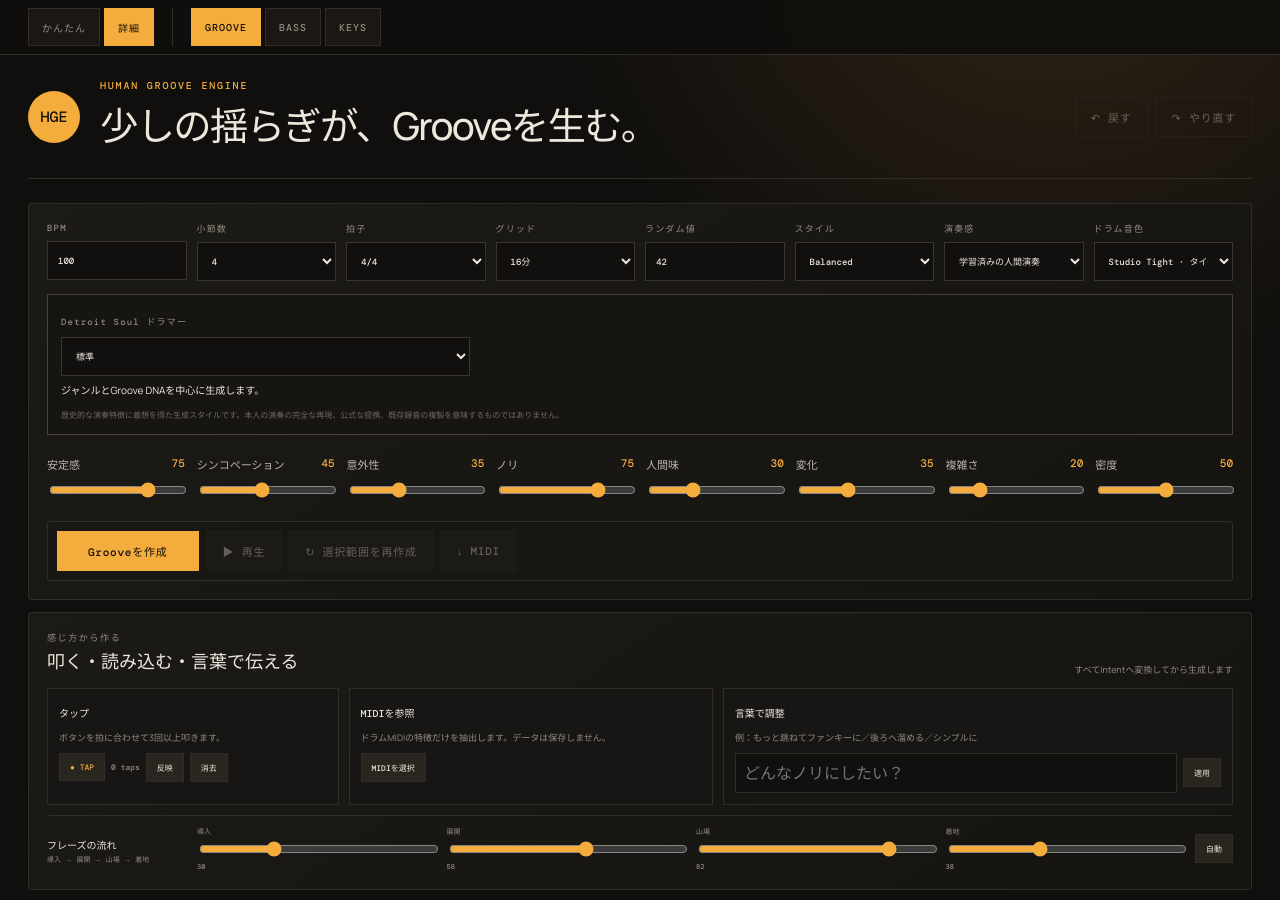
Test: switches between Groove, Bass, and Keys engines
Check: the heading "少しの揺らぎが、Grooveを生む。" is shown, box [100,94,658,152]
Step 1. Click the button "BASS" → coordinates (293, 27), box [265,8,321,46]
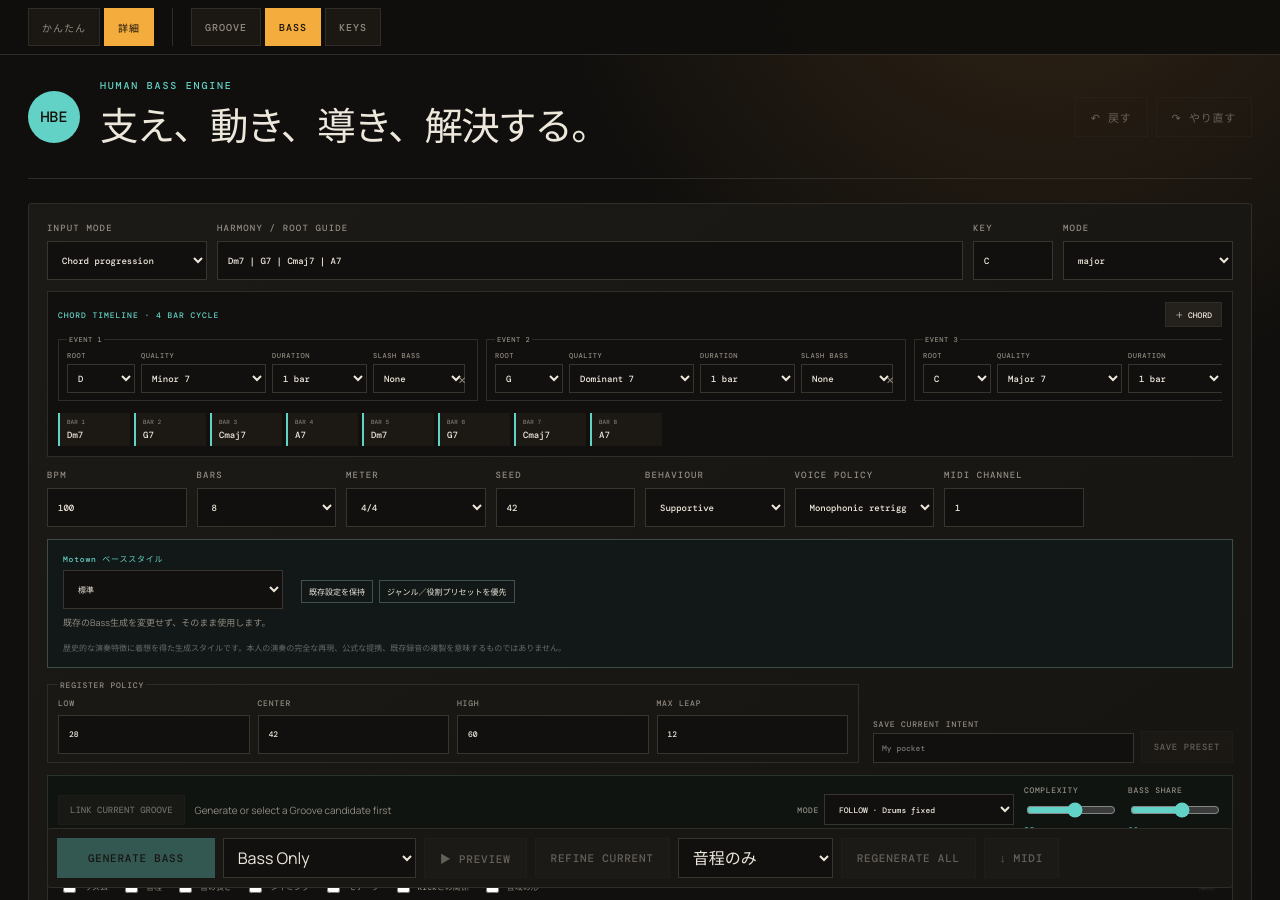
Check: the heading "支え、動き、導き、解決する。" is shown, box [100,94,608,152]
Step 2. Click the button "KEYS" → coordinates (353, 27), box [325,8,381,46]
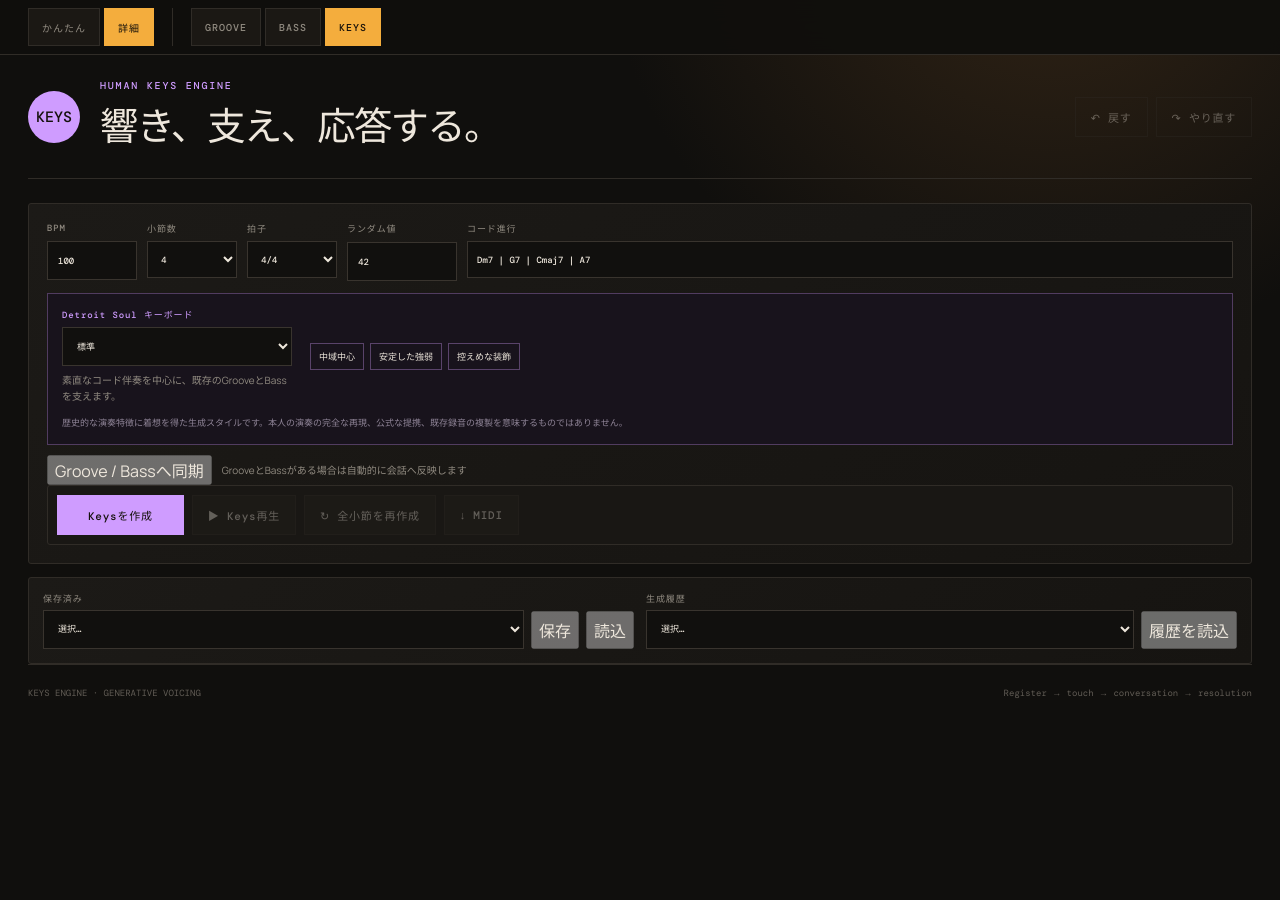
Check: the heading "響き、支え、応答する。" is shown, box [100,94,501,152]
